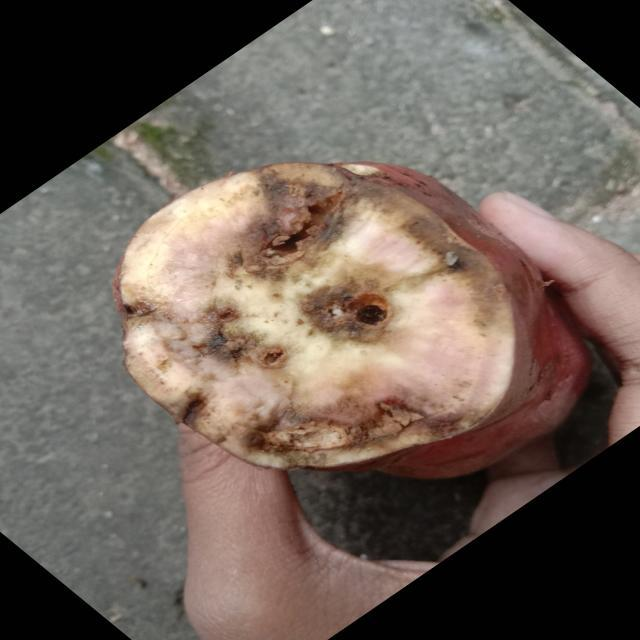Sick Sweet Potato_Tuber Rot: (113, 162, 545, 469)
